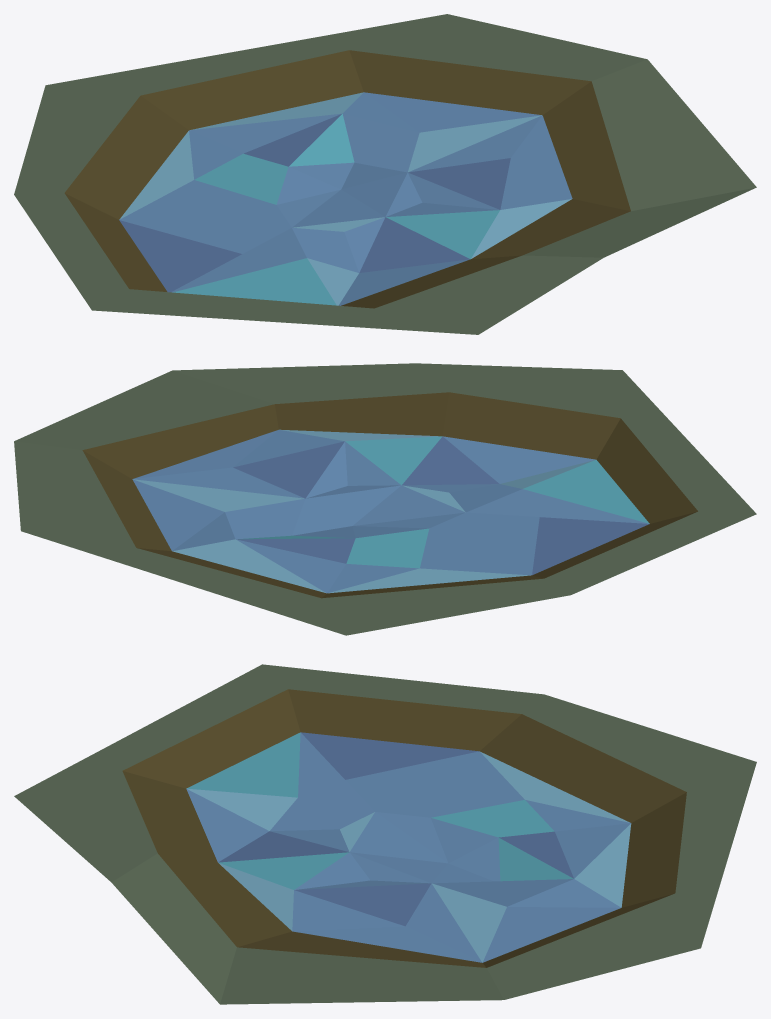
The model's file is SM_Lake.fbx.
The picture shows the model from 3 angles, top to bottom: view 1: azimuth 30°, elevation 25°; view 2: azimuth 150°, elevation 25°; view 3: azimuth 270°, elevation 25°; orthographic projection. The views are drawn at different scales.
Parts seen in each view (by area): view 1: SM_Lake; view 2: SM_Lake; view 3: SM_Lake.
Boxes of the visible parts, <box> form: SM_Lake: <box>14,14,756,334</box>; SM_Lake: <box>14,363,756,635</box>; SM_Lake: <box>14,664,756,1004</box>.
Bounding box in the file's own units: 270 × 12 × 253.
Materials: 1 (1 with a texture image).
